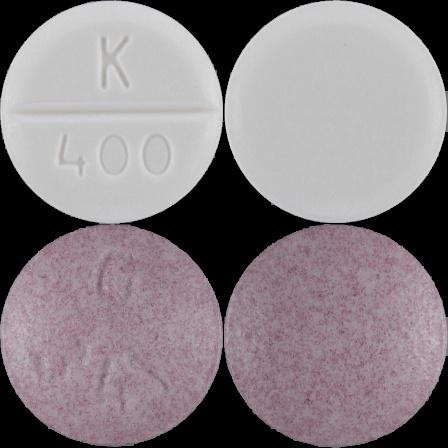63629-5442: (0, 0, 224, 224)
